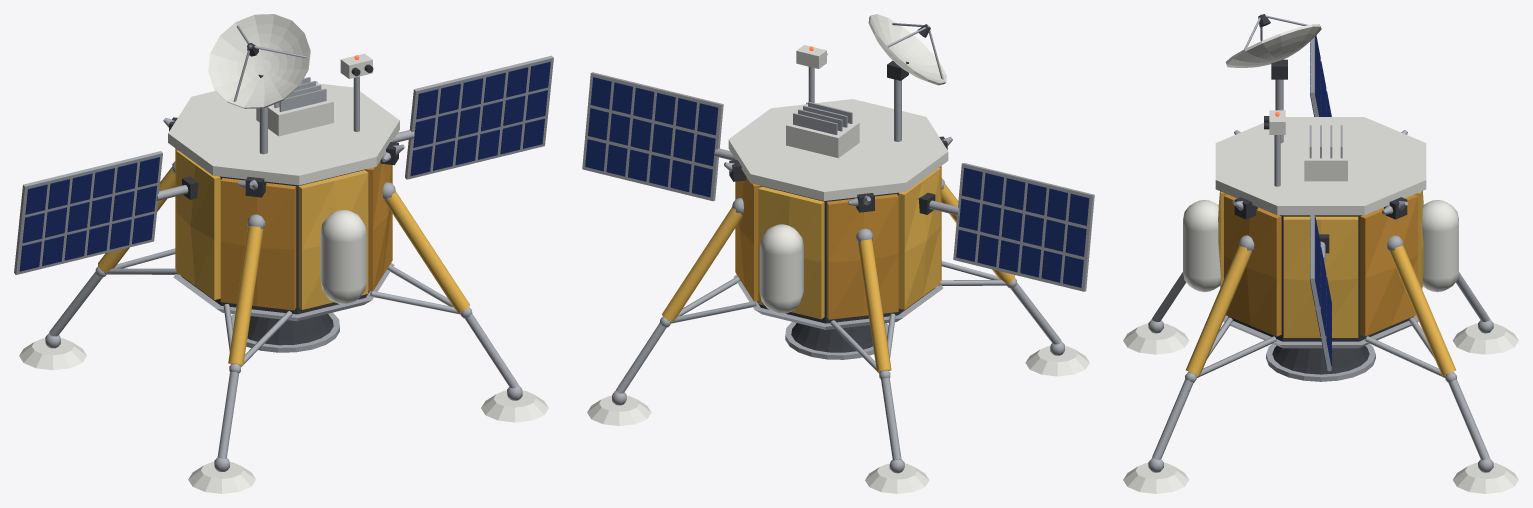
File: lander.glb
3 renders of one model, left to right at view 1: azimuth 30°, elevation 25°; view 2: azimuth 150°, elevation 25°; view 3: azimuth 270°, elevation 25°, orthographic. The views are drawn at different scales.
Visible parts, largest first — view 1: Lander_WhitePaint, Lander_Structure, Lander_SolarCell, Lander_GoldFoil, Lander_AmberFoil, Lander_DarkMetal; view 2: Lander_WhitePaint, Lander_SolarCell, Lander_Structure, Lander_GoldFoil, Lander_AmberFoil, Lander_DarkMetal; view 3: Lander_WhitePaint, Lander_GoldFoil, Lander_AmberFoil, Lander_Structure, Lander_DarkMetal, Lander_SolarCell.
Boxes of the visible parts, x1=… form: Lander_WhitePaint: x1=19, y1=14, x2=548, y2=493; Lander_Structure: x1=14, y1=25, x2=553, y2=471; Lander_SolarCell: x1=19, y1=61, x2=550, y2=271; Lander_GoldFoil: x1=98, y1=150, x2=469, y2=365; Lander_AmberFoil: x1=175, y1=148, x2=392, y2=310; Lander_DarkMetal: x1=169, y1=43, x2=398, y2=345; Lander_WhitePaint: x1=587, y1=14, x2=1089, y2=493; Lander_SolarCell: x1=585, y1=77, x2=1089, y2=287; Lander_Structure: x1=582, y1=23, x2=1094, y2=473; Lander_GoldFoil: x1=662, y1=168, x2=1015, y2=372; Lander_AmberFoil: x1=735, y1=166, x2=941, y2=319; Lander_DarkMetal: x1=729, y1=24, x2=947, y2=352; Lander_WhitePaint: x1=1123, y1=24, x2=1518, y2=493; Lander_GoldFoil: x1=1186, y1=191, x2=1455, y2=376; Lander_AmberFoil: x1=1224, y1=194, x2=1417, y2=336; Lander_Structure: x1=1148, y1=14, x2=1493, y2=472; Lander_DarkMetal: x1=1228, y1=14, x2=1413, y2=374; Lander_SolarCell: x1=1310, y1=35, x2=1331, y2=366.
Bounding box in the file's own units: 5.75 × 3.97 × 3.82.
